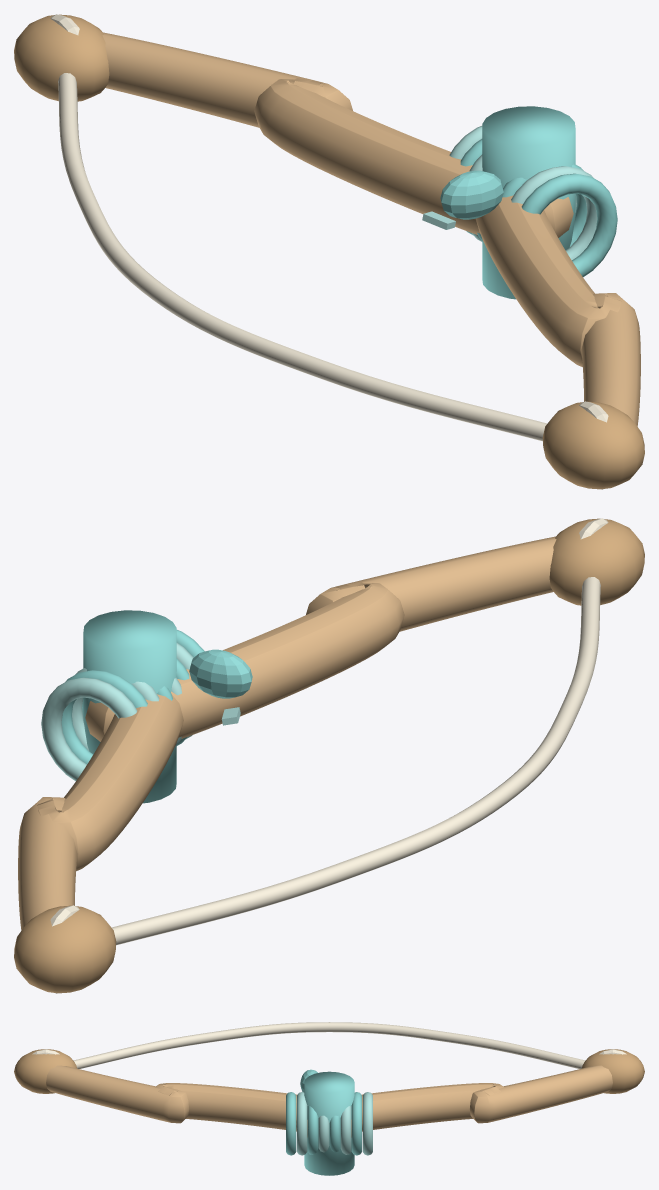
Rendered from bow-blender-v2.glb.
3 renders of one model, top to bottom at view 1: azimuth 30°, elevation 25°; view 2: azimuth 150°, elevation 25°; view 3: azimuth 270°, elevation 25°, orthographic. The views are drawn at different scales.
Parts seen in each view (by area): view 1: LetterPathBowMesh; view 2: LetterPathBowMesh; view 3: LetterPathBowMesh.
Part boxes in pixels (left/top/right/bottom): LetterPathBowMesh: left=14, top=14, right=644, bottom=489; LetterPathBowMesh: left=14, top=518, right=644, bottom=993; LetterPathBowMesh: left=14, top=1022, right=644, bottom=1175.
Bounding box in the file's own units: 0.581 × 0.2 × 1.38.
